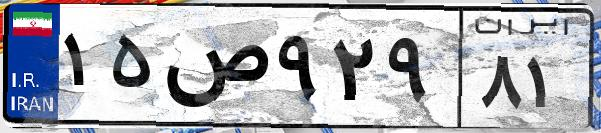1: (57, 26, 110, 100), (525, 38, 570, 115)
2: (330, 28, 385, 110)
5: (110, 28, 158, 98)
8: (475, 38, 525, 113)
9: (270, 28, 330, 110), (385, 28, 445, 110)
ص: (158, 20, 270, 120)
